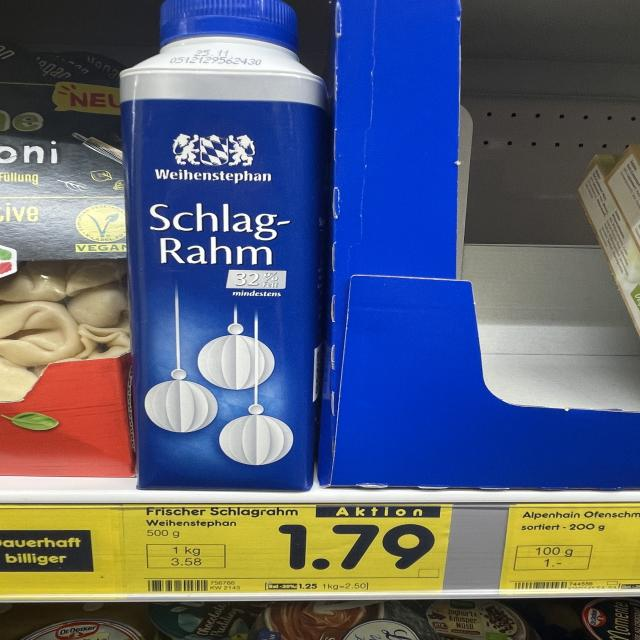Cream: (120, 0, 328, 491)
